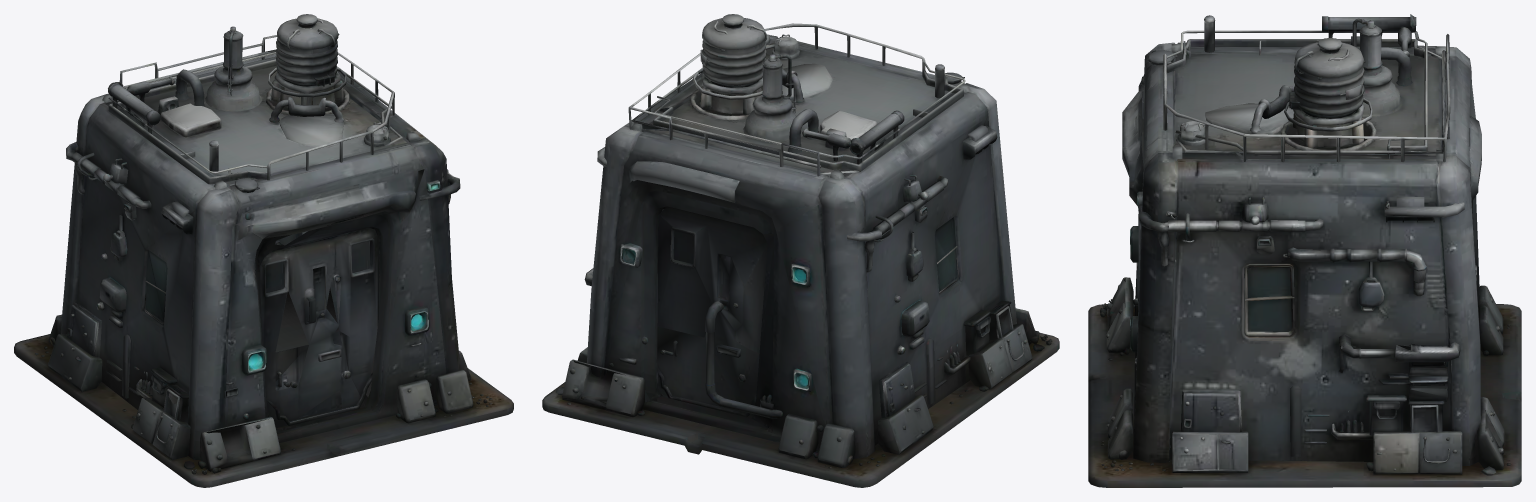
File: shelter_modern.glb
The picture shows the model from 3 angles, left to right: view 1: azimuth 30°, elevation 25°; view 2: azimuth 150°, elevation 25°; view 3: azimuth 270°, elevation 25°; orthographic projection. The views are drawn at different scales.
Visible parts, largest first — view 1: tripo_node_0add5589-4d88-4e88-8191-116abe2b051b; view 2: tripo_node_0add5589-4d88-4e88-8191-116abe2b051b; view 3: tripo_node_0add5589-4d88-4e88-8191-116abe2b051b.
Boxes of the visible parts, <box> form: tripo_node_0add5589-4d88-4e88-8191-116abe2b051b: <box>14,14,513,487</box>; tripo_node_0add5589-4d88-4e88-8191-116abe2b051b: <box>542,14,1059,487</box>; tripo_node_0add5589-4d88-4e88-8191-116abe2b051b: <box>1088,14,1521,487</box>.
Bounding box in the file's own units: 0.4834 × 0.5 × 0.5.
Materials: 1 (1 with a texture image).
